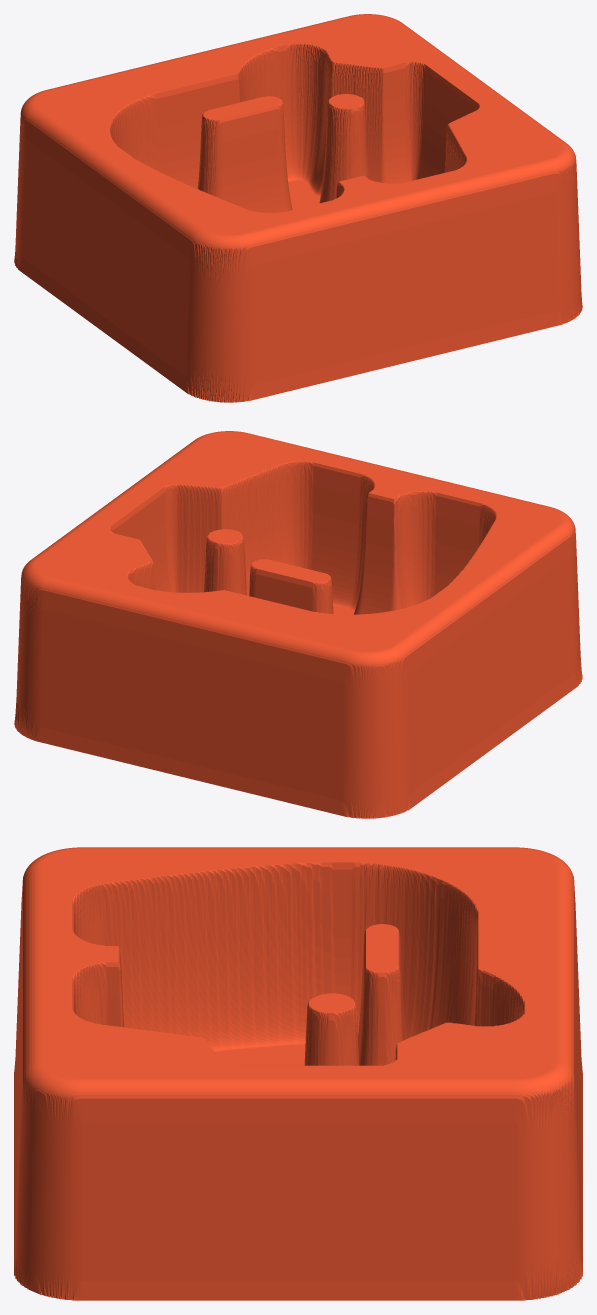
Rendered from mold.glb.
The picture shows the model from 3 angles, top to bottom: view 1: azimuth 30°, elevation 25°; view 2: azimuth 150°, elevation 25°; view 3: azimuth 270°, elevation 25°; orthographic projection. The views are drawn at different scales.
Parts seen in each view (by area): view 1: geometry_0; view 2: geometry_0; view 3: geometry_0.
Boxes of the visible parts, box(x1,y1,x2,y2) form: geometry_0: box(14, 14, 582, 402); geometry_0: box(14, 431, 582, 818); geometry_0: box(14, 847, 582, 1300).
Bounding box in the file's own units: 0.0798 × 0.031 × 0.076.
